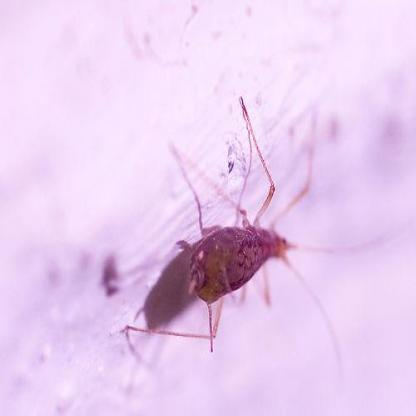aphid: (154, 125, 326, 345)
